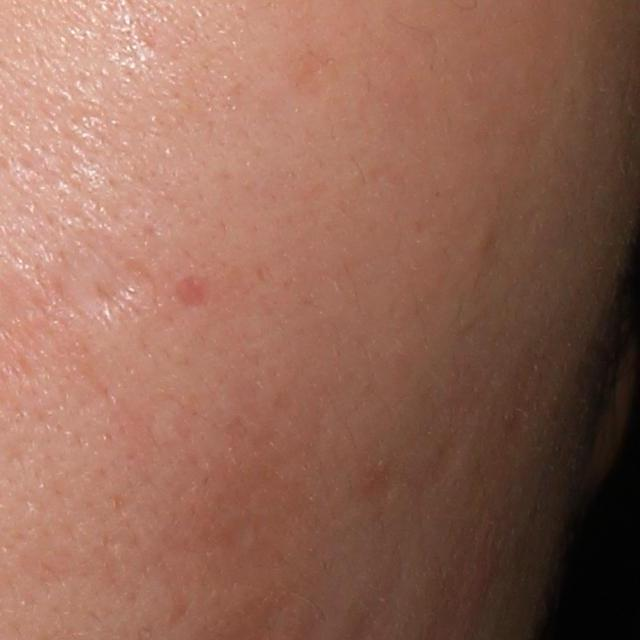atrophic_scar: (24, 223, 155, 332), (360, 466, 405, 514), (171, 277, 210, 312)
comedo: (462, 222, 501, 256)
